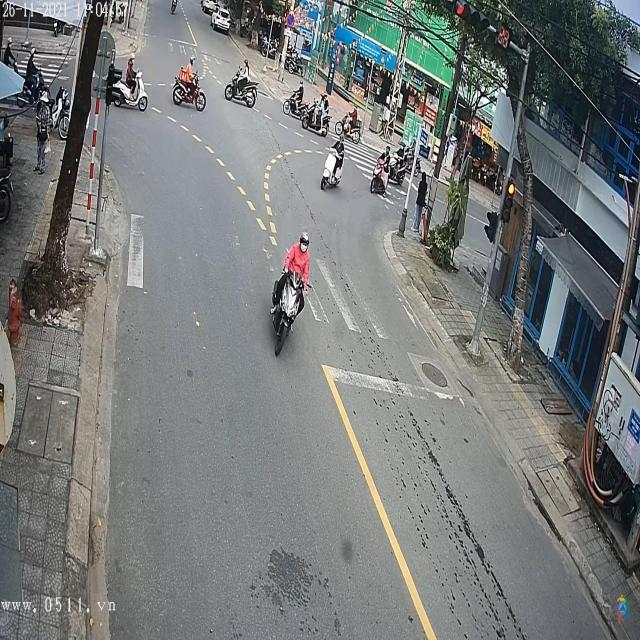motorcycle: (268, 270, 306, 358), (109, 66, 150, 110), (320, 145, 346, 190), (173, 77, 207, 110), (224, 76, 258, 108), (302, 101, 328, 140), (336, 113, 363, 142), (370, 165, 389, 195), (171, 0, 178, 13)
